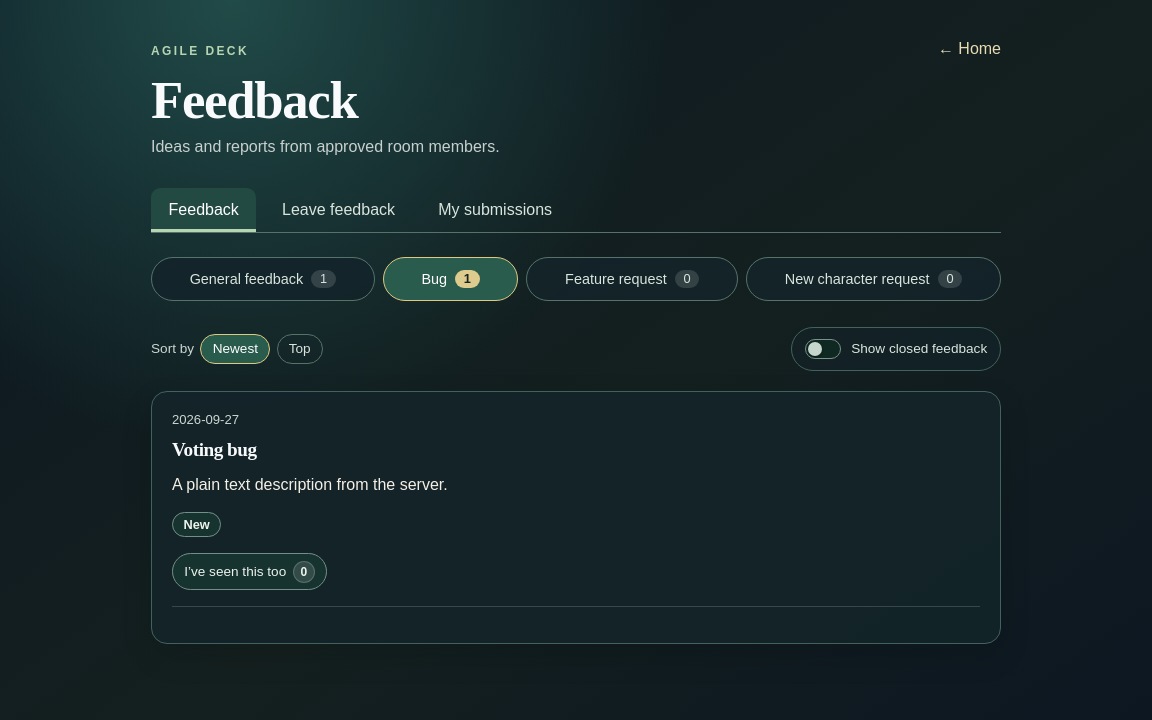
Test: FeedbackComponent › lets visitors add and remove a reaction, but disables votes on their own feedback
This screenshot has width=1152, height=720.
Click the button "I’ve seen this too 0". click: (250, 572)
box: [172,553,327,590]
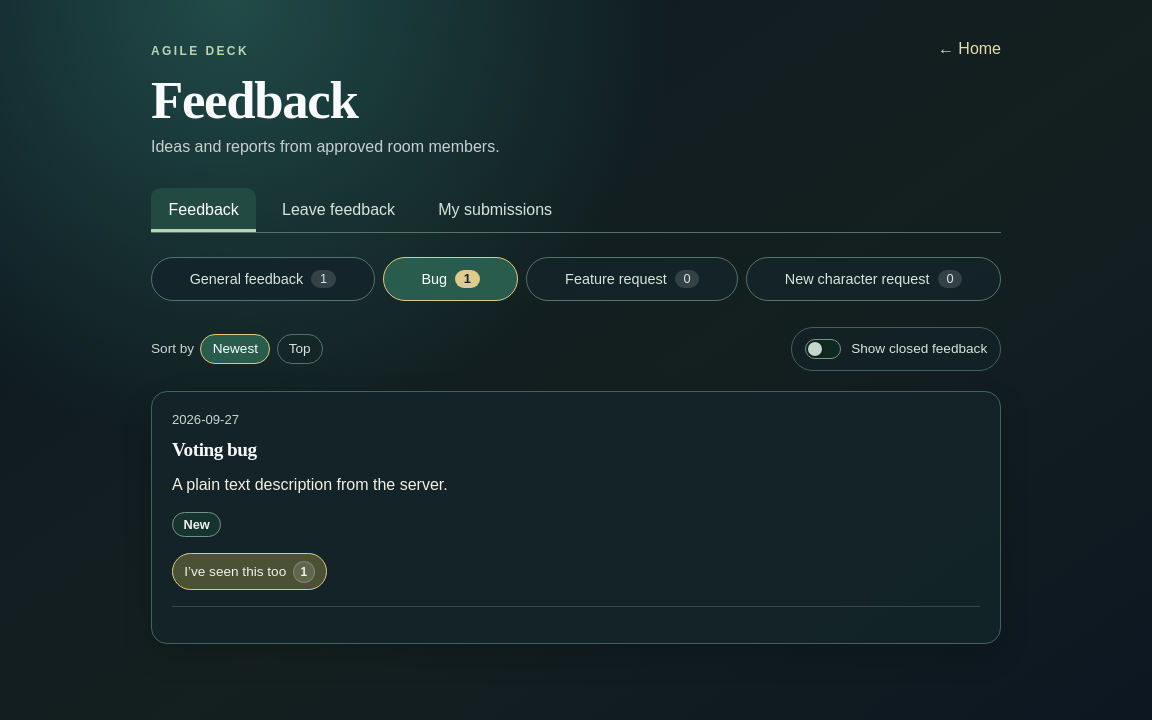
Result: the button "I’ve seen this too 1" is shown
Click the button "I’ve seen this too 1". click: (250, 572)
box: [172,553,327,590]
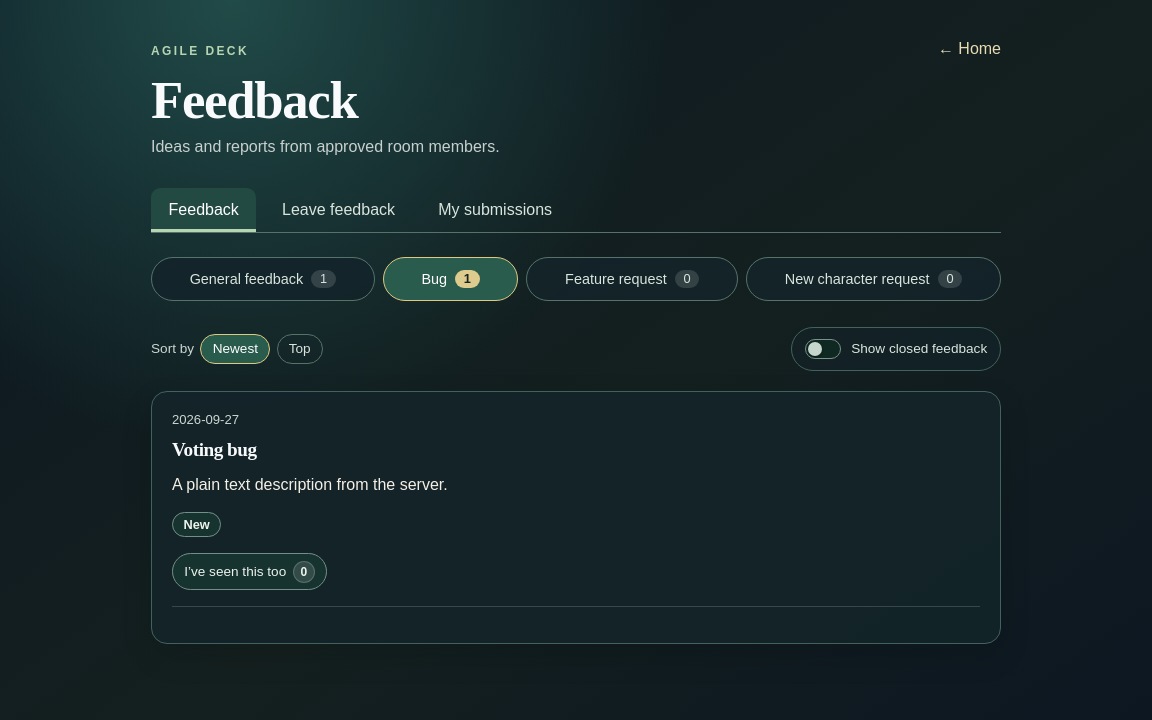
Result: the button "I’ve seen this too 0" is shown at [172,553,327,590]
